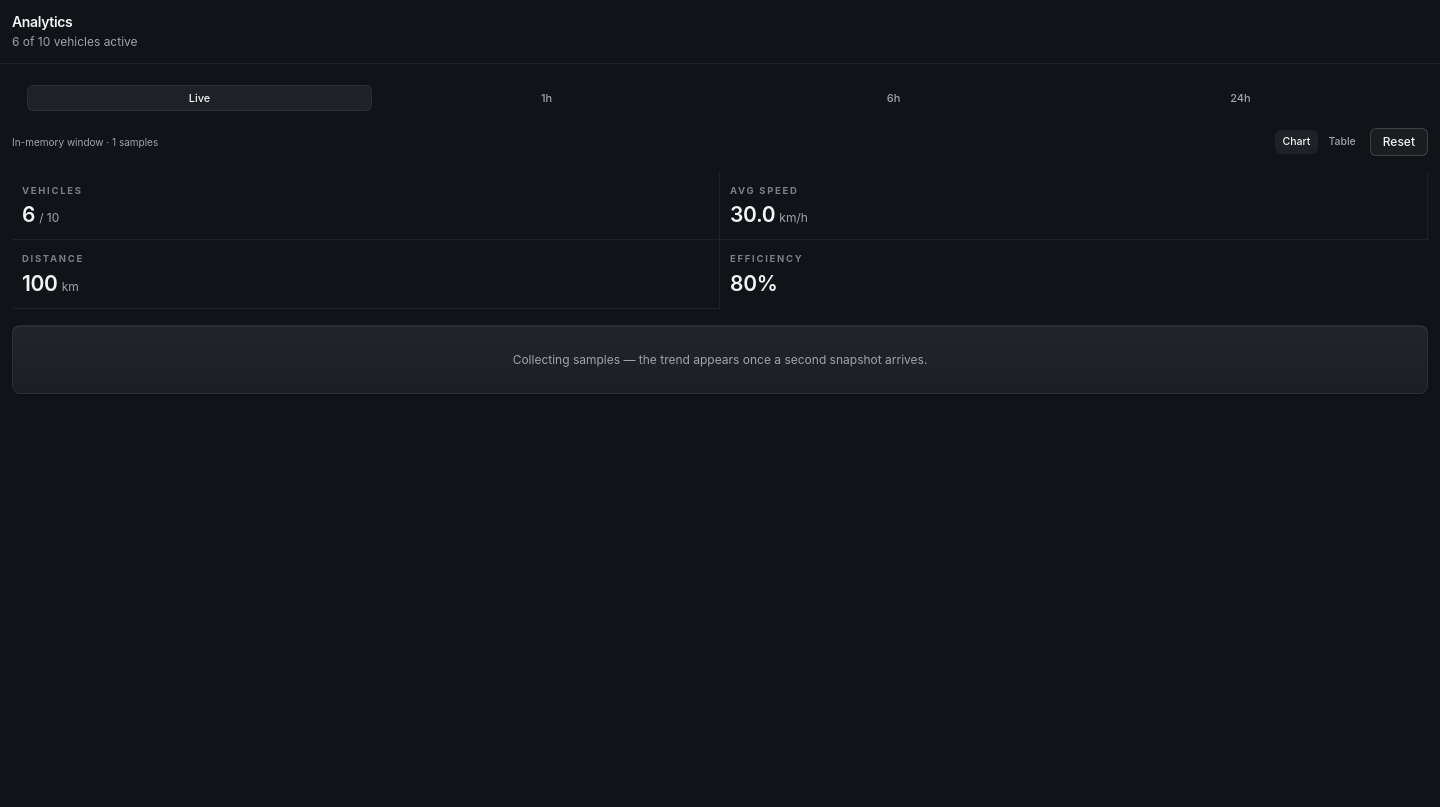
Scenario: AnalyticsPanel — server-side bucketing › badges a window the server could not cover in full
Click the tab "24h": (1240,98) [1068,84,1413,111]
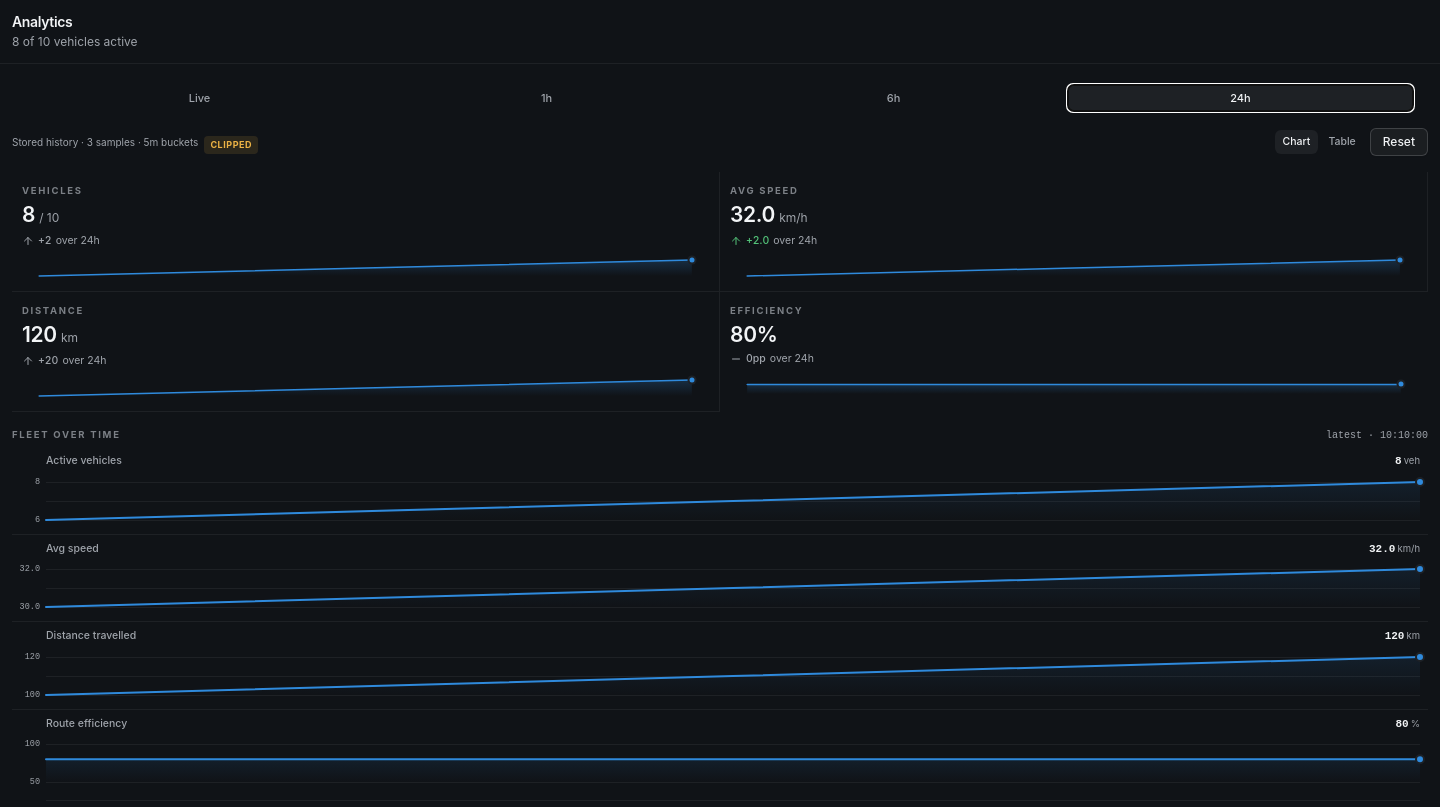
Result: the element with test id "analytics-truncated" reads "Clipped" at [210,139,252,150]
